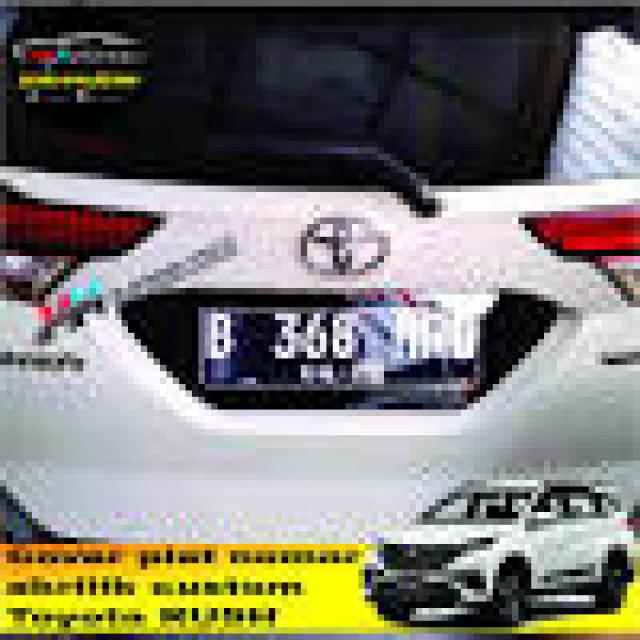lisence-plate: (104, 284, 562, 440)
